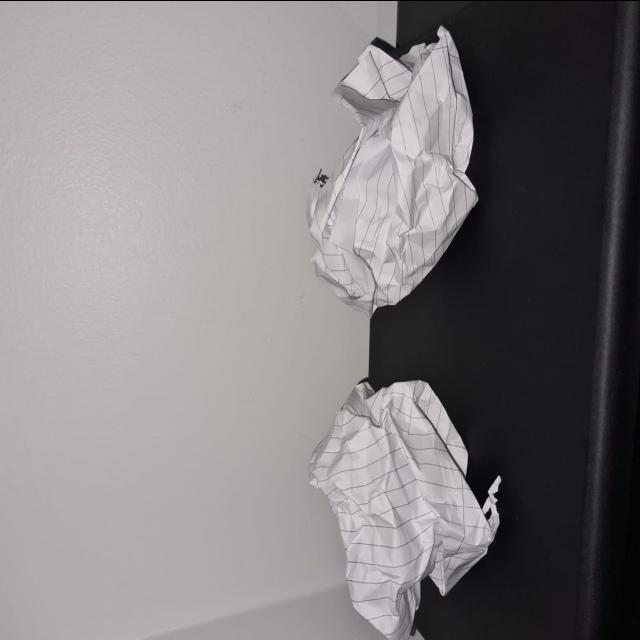kertas: (288, 6, 490, 325), (296, 373, 496, 625)
